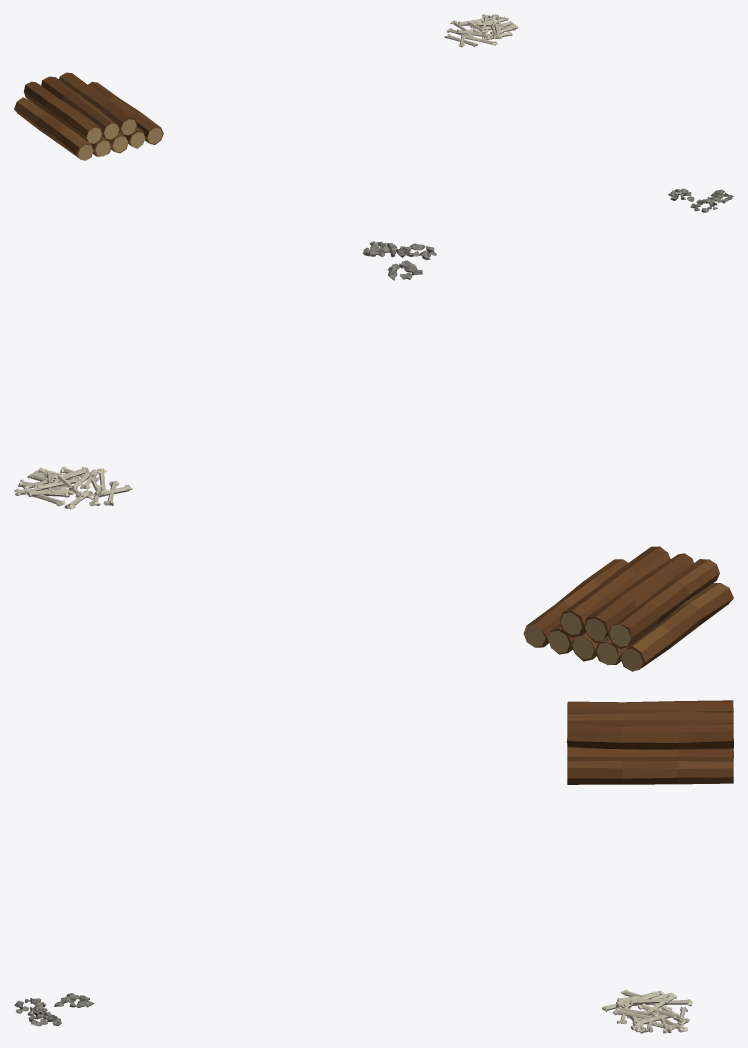
File: feast_ground_1_mucchi.glb
3 views of the same model, one above another, from view 1: azimuth 30°, elevation 25°; view 2: azimuth 150°, elevation 25°; view 3: azimuth 270°, elevation 25° (orthographic). The views are drawn at different scales.
Visible parts, largest first — view 1: feast_ground_1_mucchi; view 2: feast_ground_1_mucchi; view 3: feast_ground_1_mucchi.
Part boxes in pixels (x1,y1,x2,y2): feast_ground_1_mucchi: [14, 14, 733, 212]; feast_ground_1_mucchi: [14, 241, 733, 671]; feast_ground_1_mucchi: [14, 700, 733, 1033].
Bounding box in the file's own units: 15.57 × 1.1 × 15.62.
